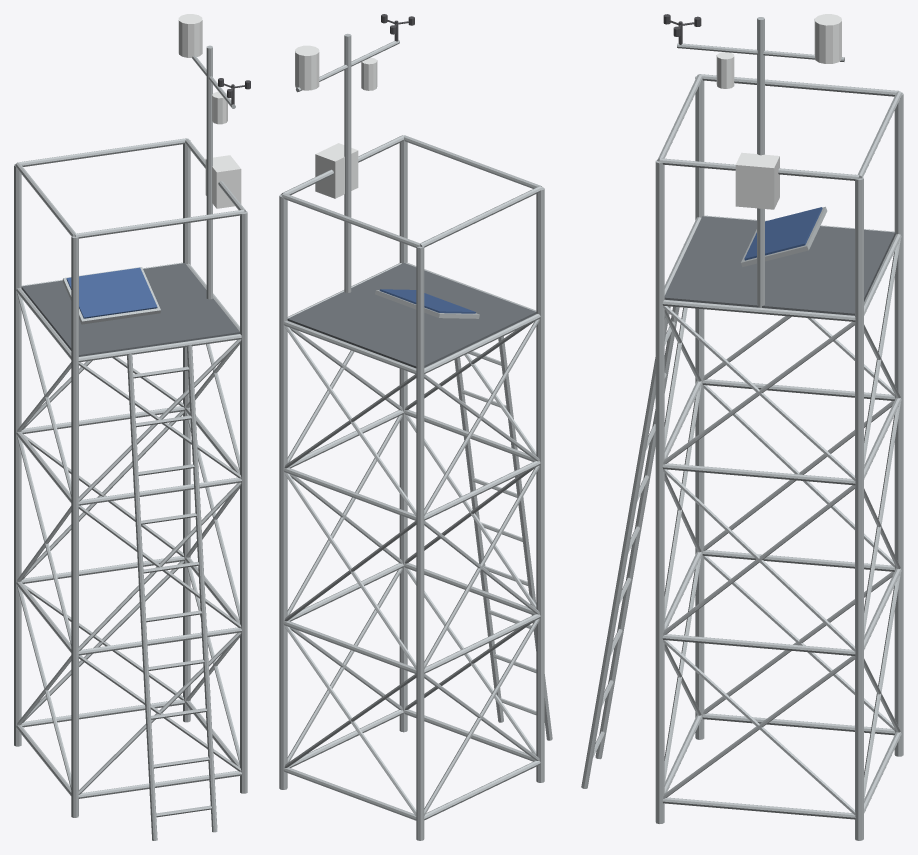
Rendered from rares_sgpp_aws.glb.
3 renders of one model, left to right at view 1: azimuth 30°, elevation 25°; view 2: azimuth 150°, elevation 25°; view 3: azimuth 270°, elevation 25°, orthographic. The views are drawn at different scales.
Parts seen in each view (by area): view 1: AWS_AnemShaft; view 2: AWS_AnemShaft; view 3: AWS_AnemShaft.
Boxes of the visible parts, left/top/right/bottom form: AWS_AnemShaft: left=14, top=14, right=250, bottom=840; AWS_AnemShaft: left=279, top=14, right=552, bottom=840; AWS_AnemShaft: left=581, top=14, right=903, bottom=840.
Bounding box in the file's own units: 1.54 × 5.48 × 1.97.
